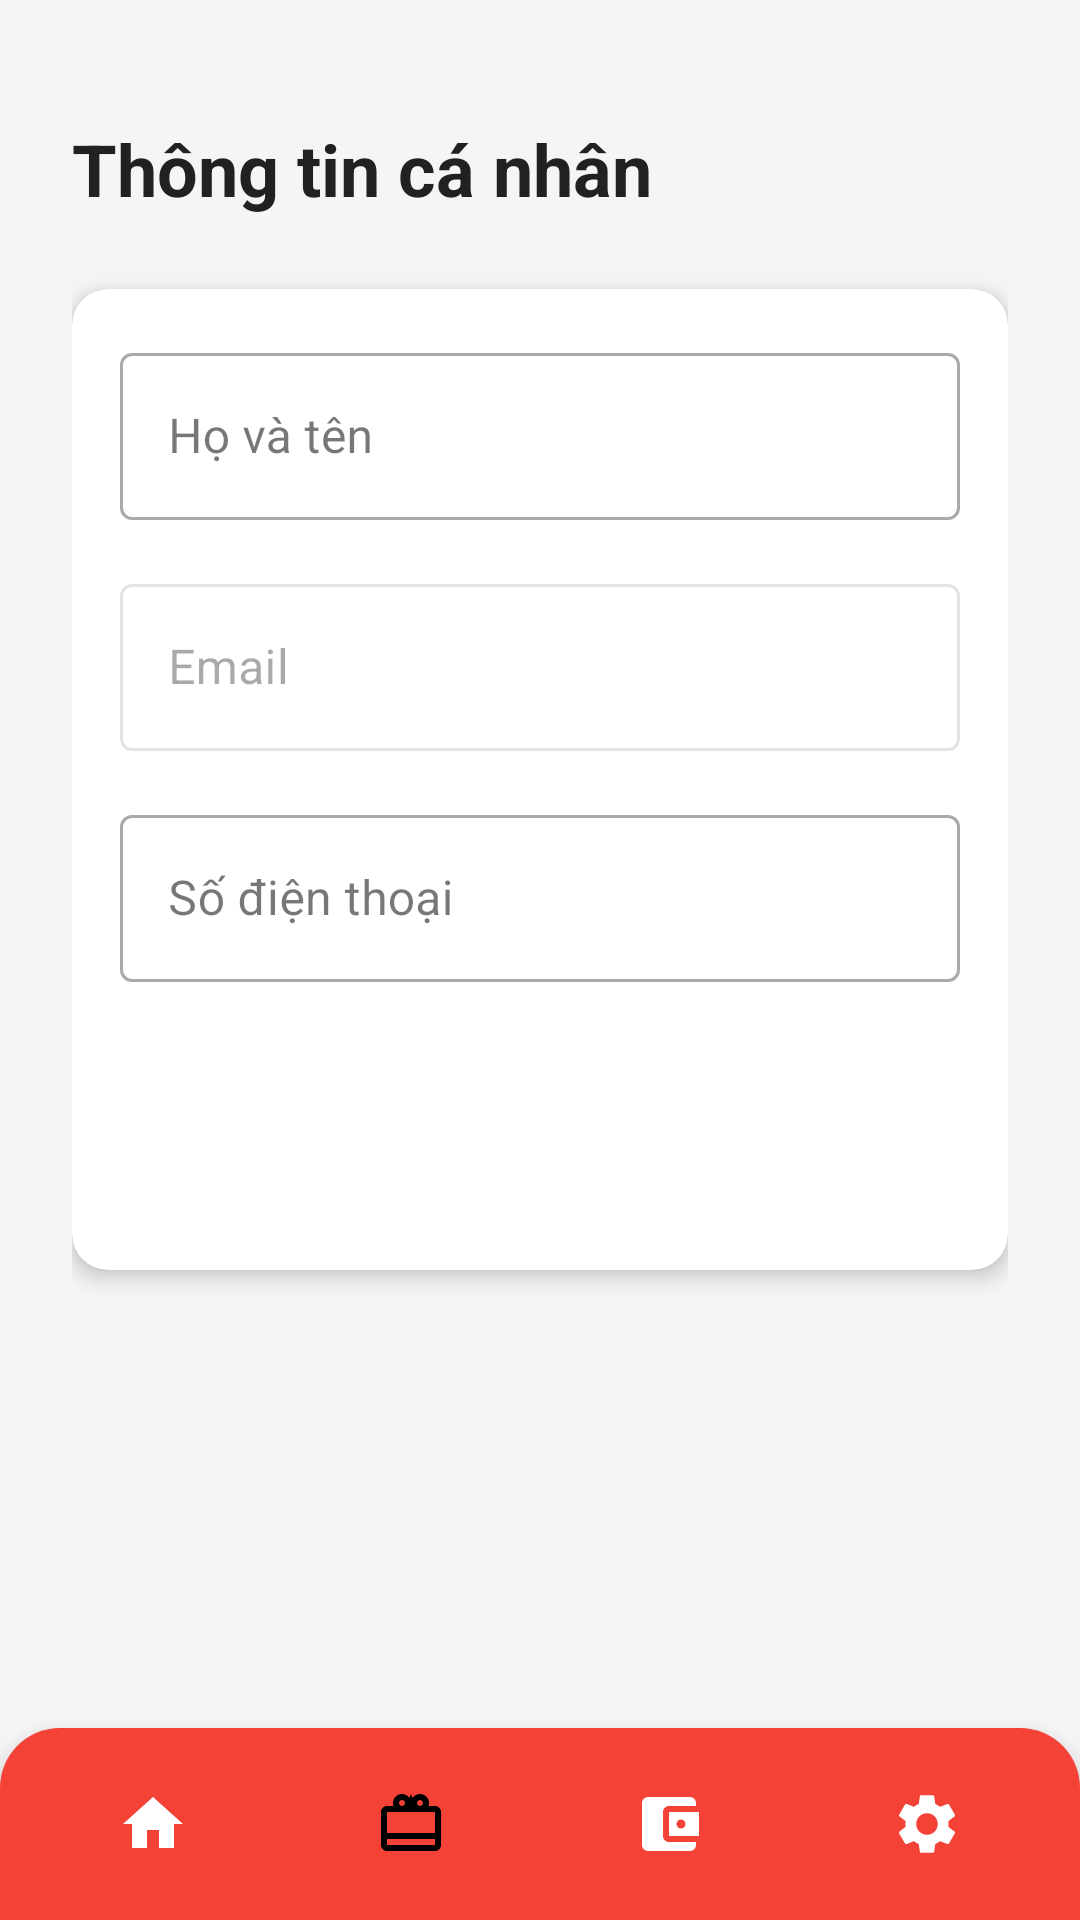

Icon bounding boxes for this 1080 x 1920 phone screenshot, format box(x1, y1, x2, y2):
Home: box(123, 1797, 183, 1848)
Settings: box(899, 1795, 955, 1853)
Wallet: box(642, 1797, 699, 1851)
